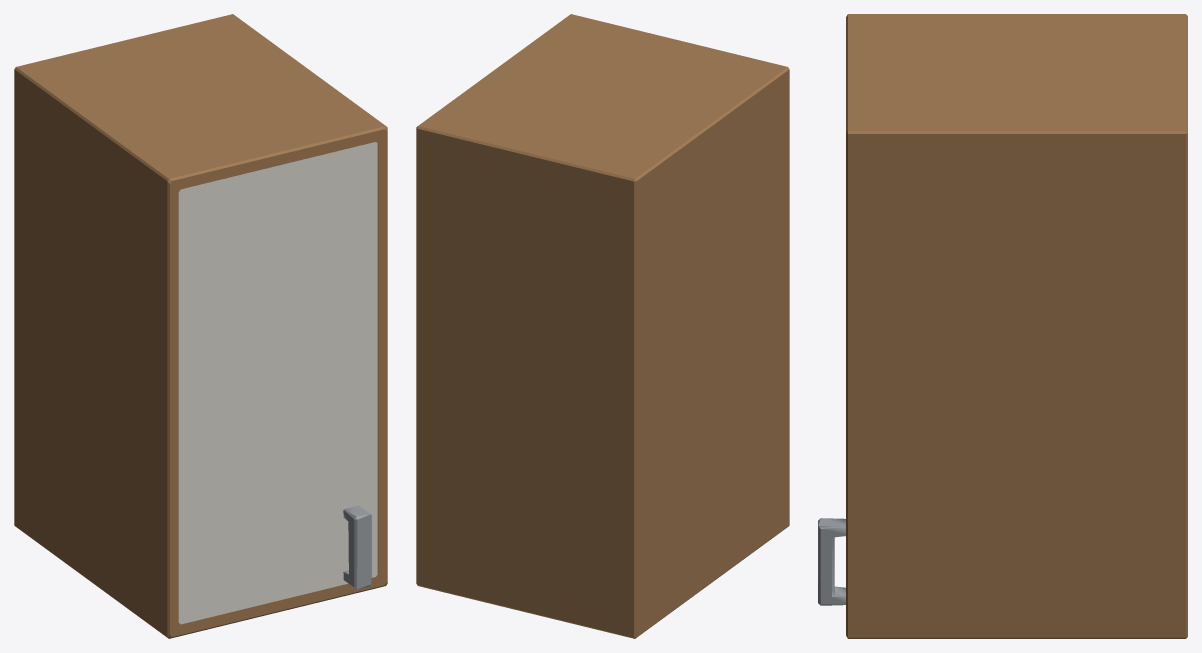
Rendered from 02_capboard_up_one_destructible.glb.
3 renders of one model, left to right at view 1: azimuth 30°, elevation 25°; view 2: azimuth 150°, elevation 25°; view 3: azimuth 270°, elevation 25°, orthographic. The views are drawn at different scales.
Parts seen in each view (by area): view 1: Cupboard A, Cupboard A.001; view 2: Cupboard A; view 3: Cupboard A, Cupboard A.001.
Boxes of the visible parts, bbox=[...] form: Cupboard A: bbox=[14, 14, 387, 638]; Cupboard A.001: bbox=[178, 142, 377, 624]; Cupboard A: bbox=[416, 14, 789, 638]; Cupboard A: bbox=[846, 14, 1187, 638]; Cupboard A.001: bbox=[818, 518, 845, 605].
Size of what is drawn, in the model's own units: 0.4154 by 0.829 by 0.5471.
2 materials, 2 textured.
